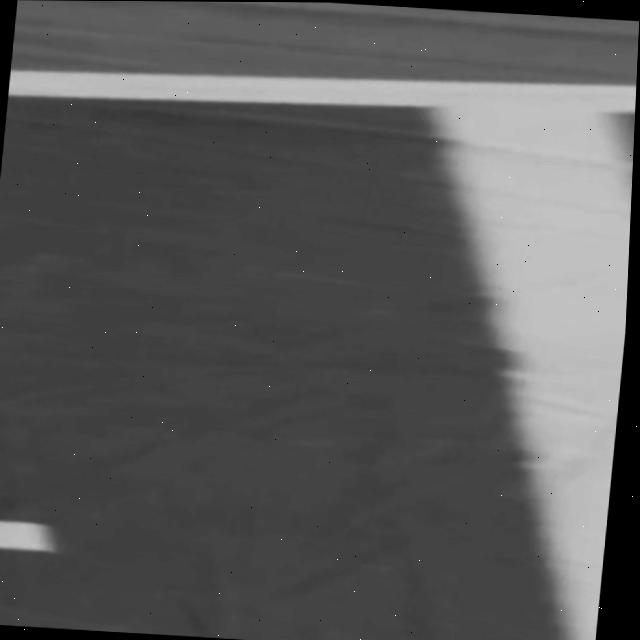center: (0, 520, 53, 552)
left: (7, 69, 636, 112)
